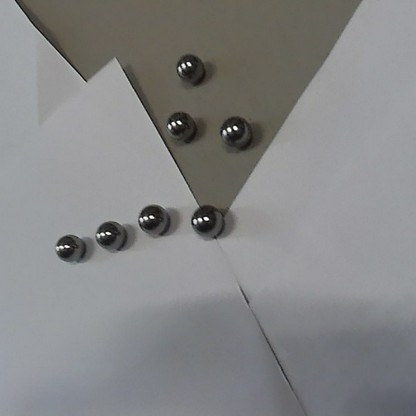ironball: (187, 204, 227, 239), (216, 115, 254, 151), (172, 50, 207, 88), (53, 232, 88, 266), (136, 204, 171, 238), (94, 217, 127, 251), (163, 109, 194, 145)
